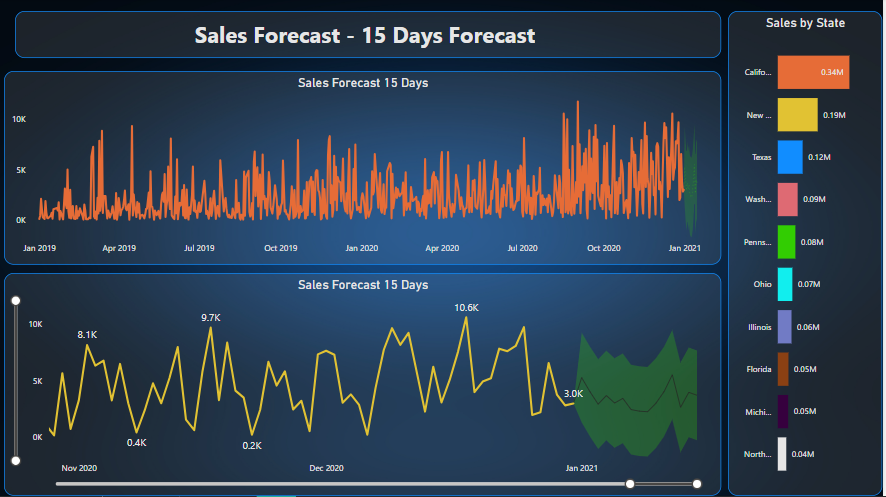

The page's visual inventory and layout, read from the dashboard file:
{"tool":"powerbi","page":{"name":"Page 2","canvas":[1280,720],"ordinal":1},"visuals":[{"type":"lineChart","title":"Sales Forecast 15 Days","fields":{"Y":["Sum(SuperStore_Sales_Dataset.Sales)"],"Category":["SuperStore_Sales_Dataset.Order Date"]},"box":[10.1,105.5,1036.6,280.5],"z":0},{"type":"lineChart","title":"Sales Forecast 15 Days","fields":{"Y":["Sum(SuperStore_Sales_Dataset.Sales)"],"Category":["SuperStore_Sales_Dataset.Order Date"]},"box":[10.1,397.6,1036.6,322.4],"z":1000},{"type":"textbox","box":[26,18.8,1020.7,68],"z":2000},{"type":"clusteredBarChart","title":"Sales by State","fields":{"Category":["SuperStore_Sales_Dataset.State"],"Y":["Sum(SuperStore_Sales_Dataset.Sales)"]},"box":[1056.9,18.8,222.7,701.2],"z":3000}]}

Visuals, with their boxes in screenshot pixels (x1, y1, x2, y2), scaled from the page's 1280x720 canvas onto the 886x497 screenshot:
"Sales Forecast 15 Days" lineChart: x1=7, y1=73, x2=725, y2=266
"Sales Forecast 15 Days" lineChart: x1=7, y1=274, x2=725, y2=496
textbox: x1=18, y1=13, x2=725, y2=60
"Sales by State" clusteredBarChart: x1=732, y1=13, x2=885, y2=496
